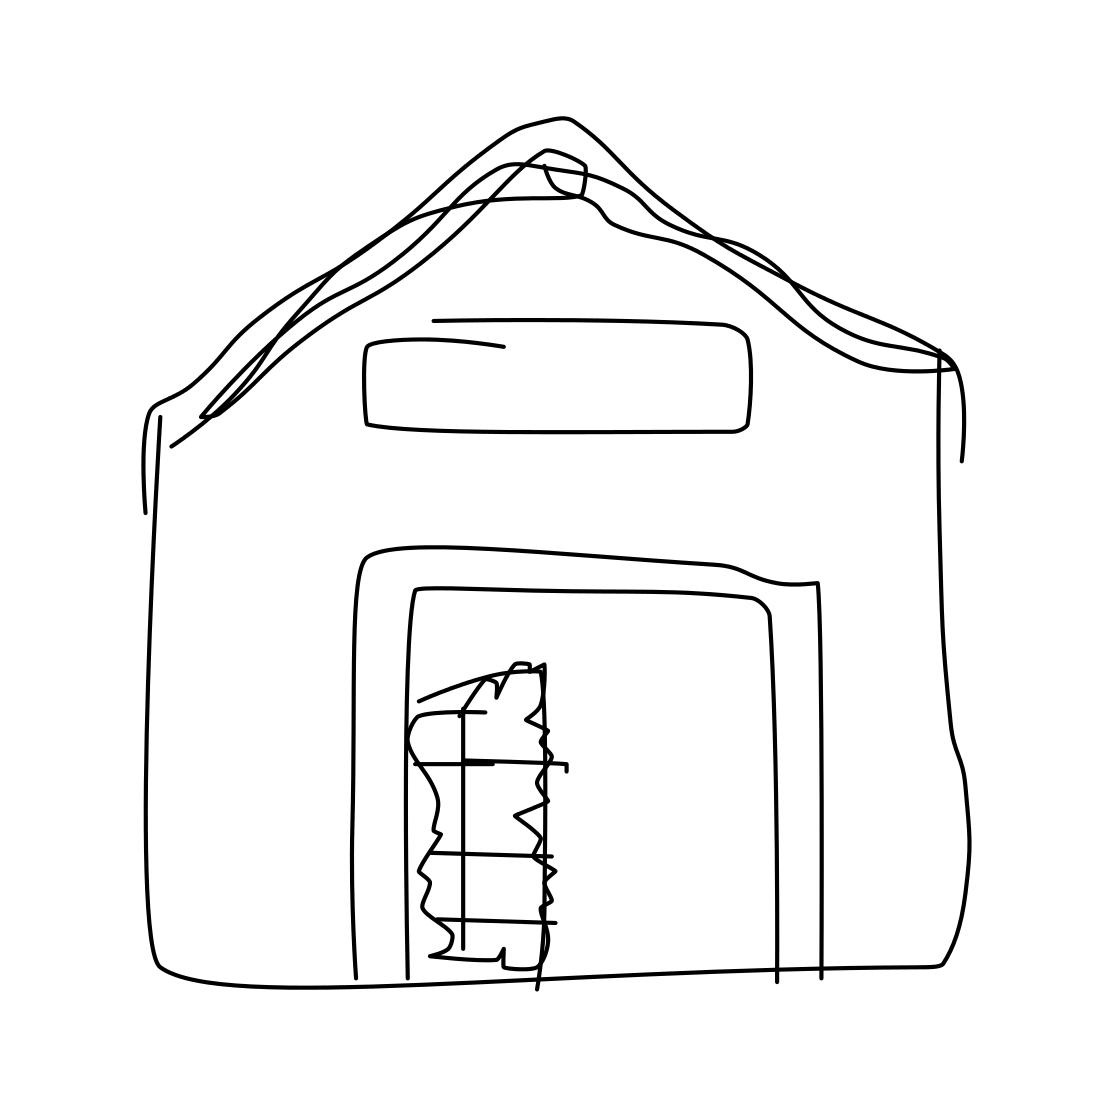House: (77, 82, 1041, 1002)
